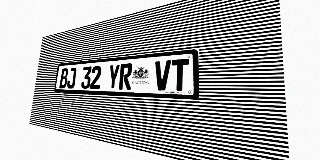2: (90, 65, 102, 89)
3: (81, 66, 92, 89)
B: (59, 68, 69, 88)
J: (66, 67, 77, 89)
R: (119, 63, 133, 90)
T: (171, 59, 189, 91)
V: (154, 60, 171, 91)
Y: (107, 64, 120, 89)
